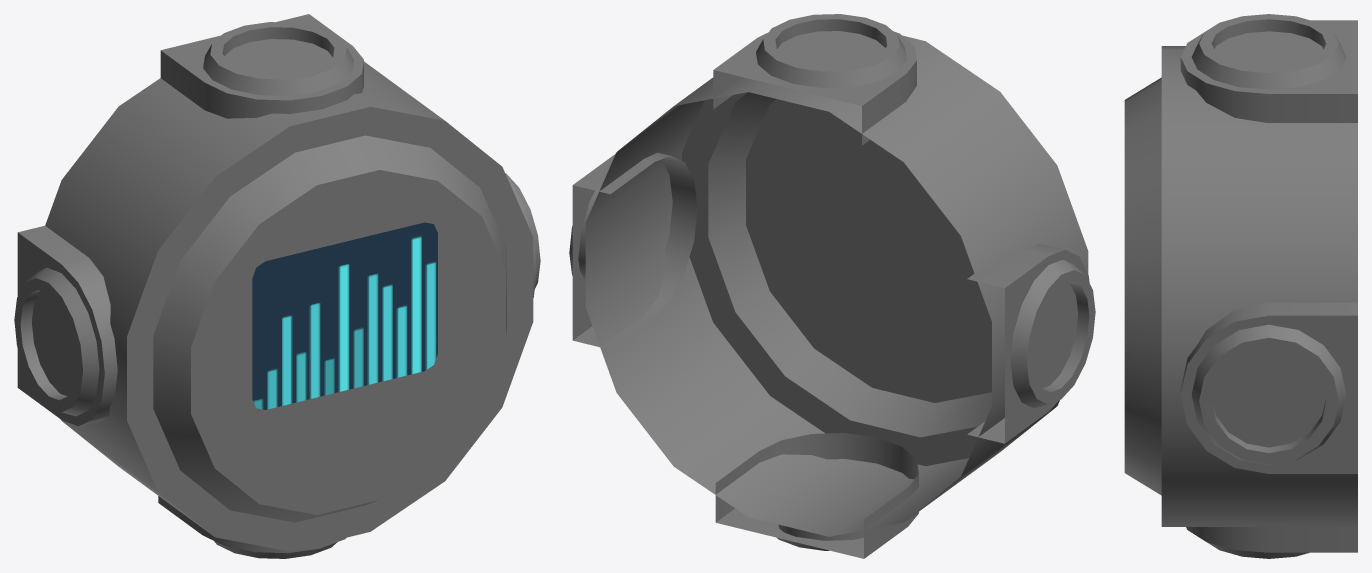
Rendered from Misc_CableBox_01_B_Small.glb.
The picture shows the model from 3 angles, left to right: view 1: azimuth 30°, elevation 25°; view 2: azimuth 150°, elevation 25°; view 3: azimuth 270°, elevation 25°; orthographic projection.
Parts seen in each view (by area): view 1: Misc_CableBox_01_B_Small.001; view 2: Misc_CableBox_01_B_Small.001; view 3: Misc_CableBox_01_B_Small.001.
Part boxes in pixels (box(x1,y1,x2,y2)): Misc_CableBox_01_B_Small.001: box(14, 14, 540, 558); Misc_CableBox_01_B_Small.001: box(569, 14, 1095, 558); Misc_CableBox_01_B_Small.001: box(1124, 14, 1357, 558).
Size of the model in its own units: 0.1809 by 0.1809 by 0.0788.
Materials: 2 (1 with a texture image).
